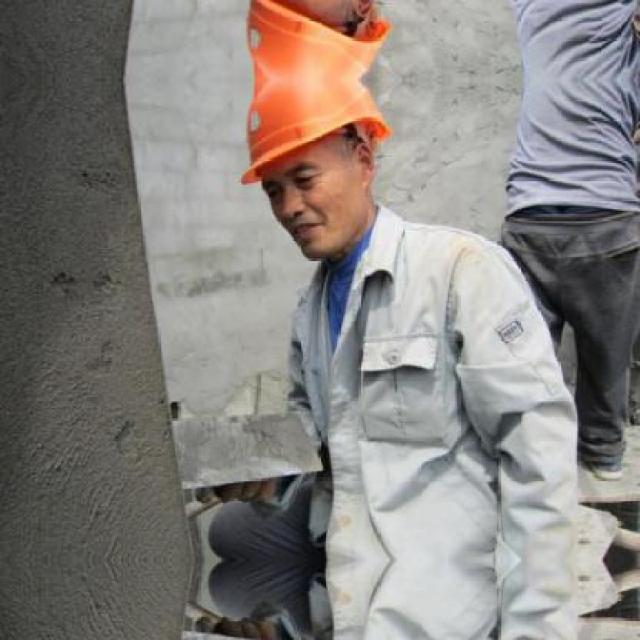helmet: (230, 80, 404, 265), (229, 0, 405, 82)
